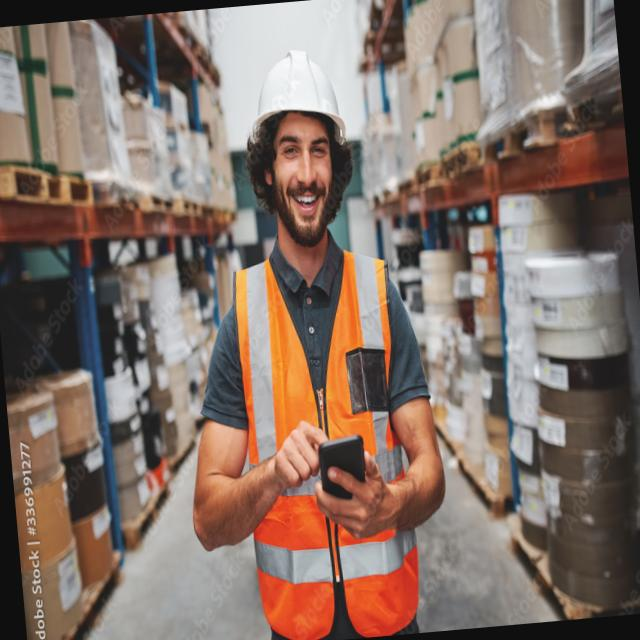helmet: (237, 42, 350, 158)
no-goggles: (265, 128, 344, 180)
vest: (225, 241, 427, 640)
